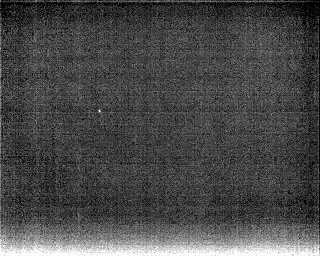BIRD: (95, 106, 103, 116)
